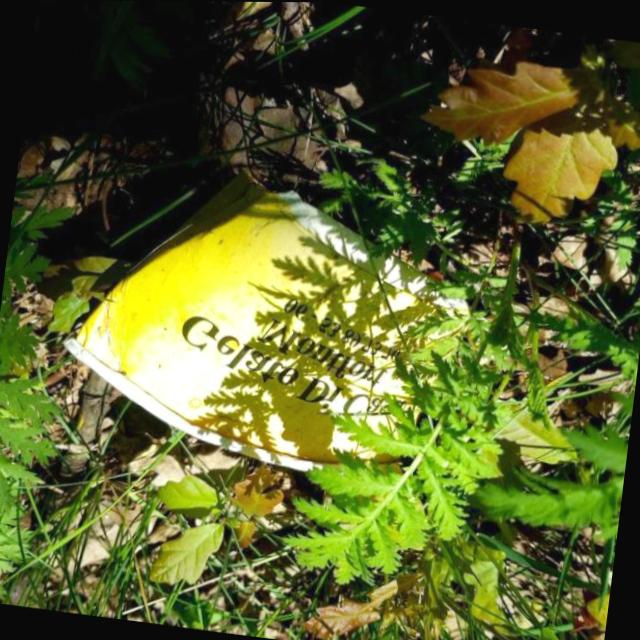Paper: (45, 155, 487, 495)
